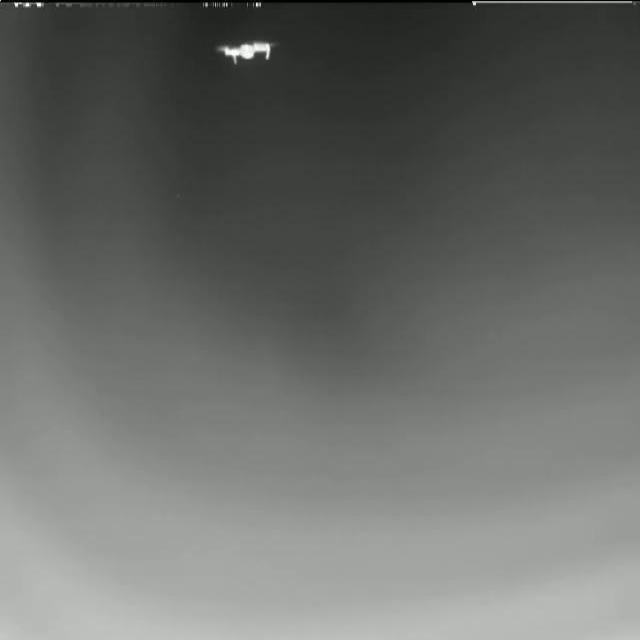DRONE: (212, 35, 283, 69)
